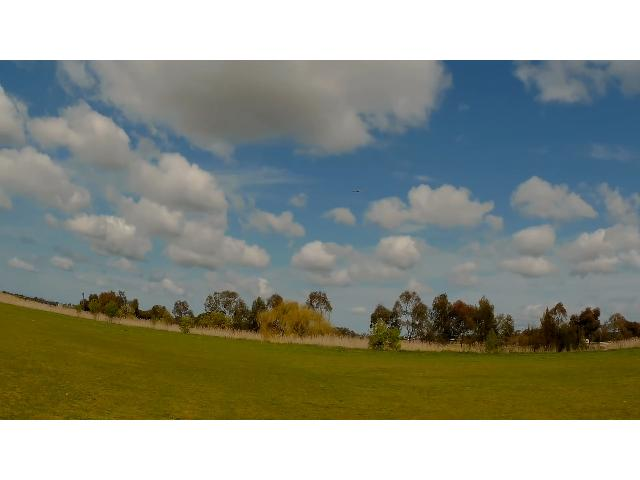Anti-Drone: (348, 178, 366, 200)
